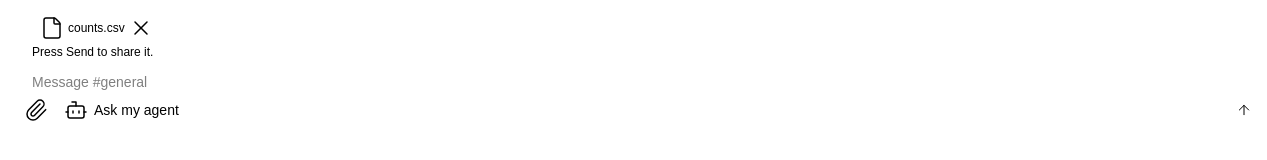
Crew composer › chips › names what × removes, and says the uploaded copy stays on the server (Q3-14)
This screenshot has width=1267, height=160.
Hover over the button named "Remove counts.csv from this message".
mouse_move(141, 28)  # box 129,16 -> 153,40
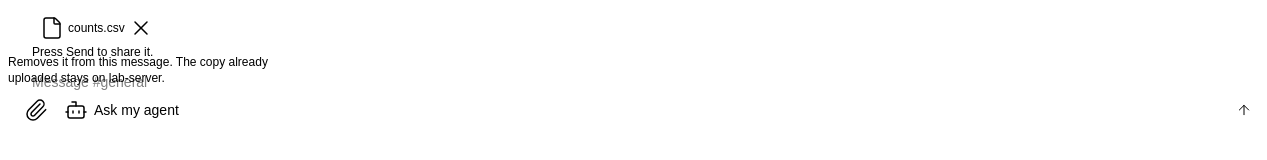
Check: the tooltip reads "Removes it from this message. The copy already uploaded stays on lab-server.", box 8,55 -> 268,85
